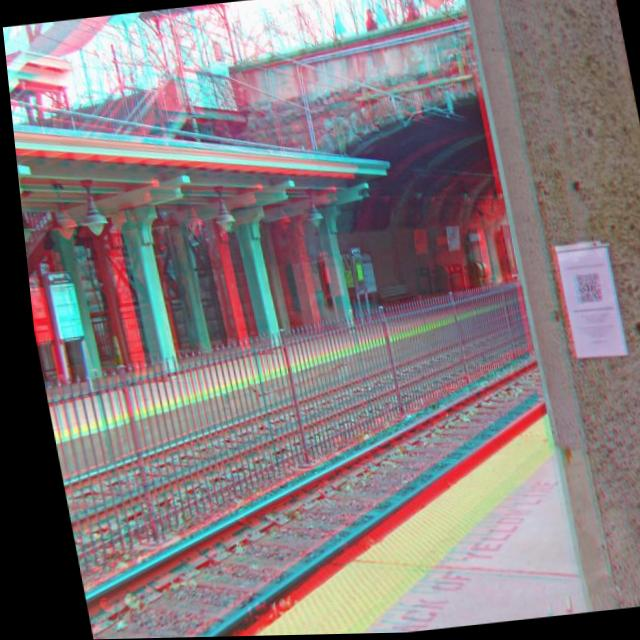qrcode: (570, 275, 597, 306)
